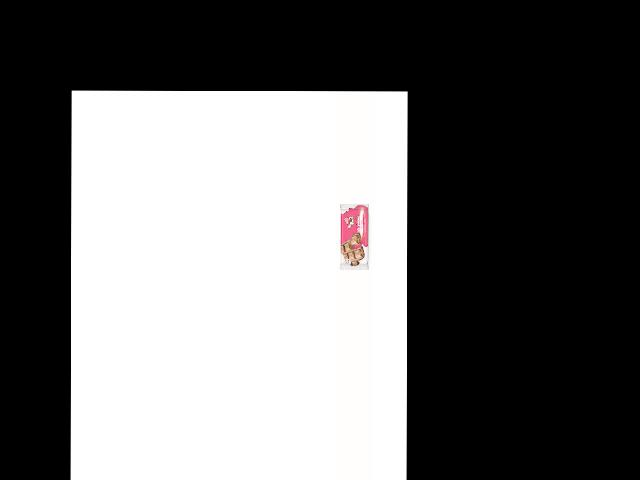chocolate: (343, 193, 384, 271)
